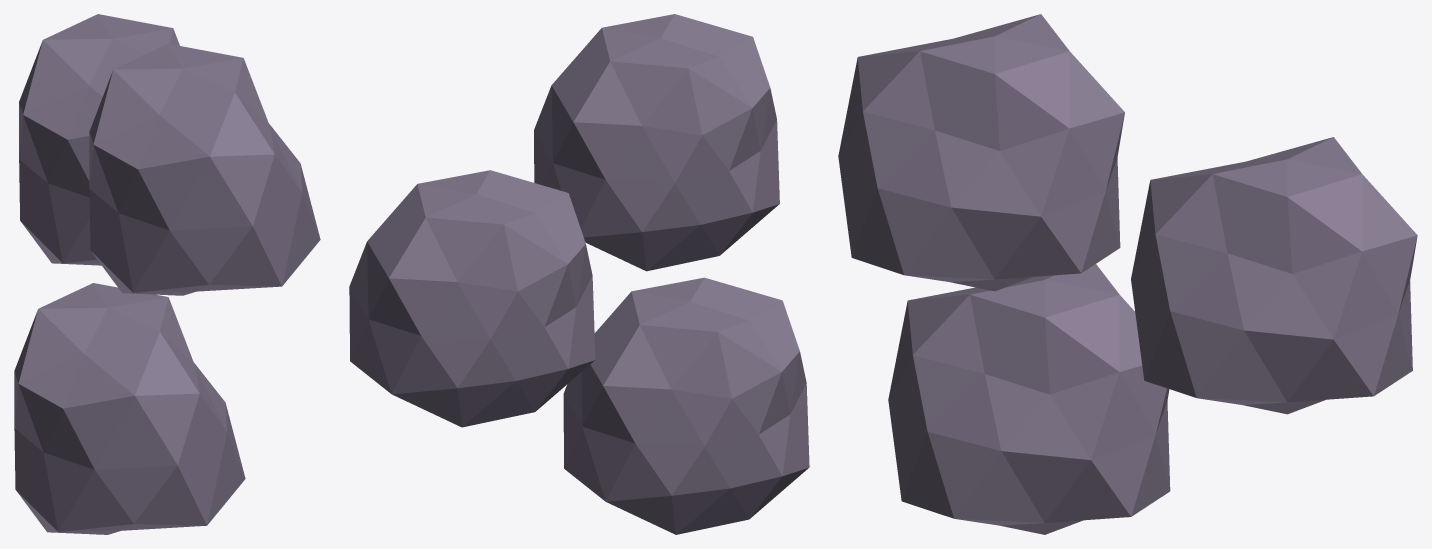
File: WeaponRocks.fbx
3 views of the same model, side by side, from view 1: azimuth 30°, elevation 25°; view 2: azimuth 150°, elevation 25°; view 3: azimuth 270°, elevation 25° (orthographic). The views are drawn at different scales.
Parts seen in each view (by area): view 1: Rock3, Rock1, Rock2; view 2: Rock2, Rock1, Rock3; view 3: Rock2, Rock3, Rock1.
Boxes of the visible parts, <box> form: Rock3: <box>89,43,320,295</box>; Rock1: <box>14,283,245,534</box>; Rock2: <box>19,14,179,265</box>; Rock2: <box>349,170,595,427</box>; Rock1: <box>563,277,809,534</box>; Rock3: <box>534,14,779,271</box>; Rock2: <box>1131,137,1417,414</box>; Rock3: <box>838,14,1124,291</box>; Rock1: <box>888,264,1170,534</box>.
Size of the model in its own units: 20.12 by 28.52 by 28.39.
